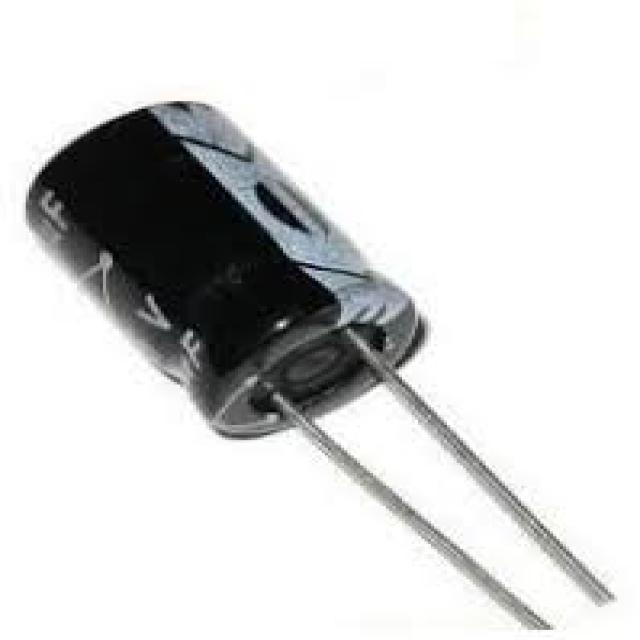Capacitor: (23, 101, 617, 632)
